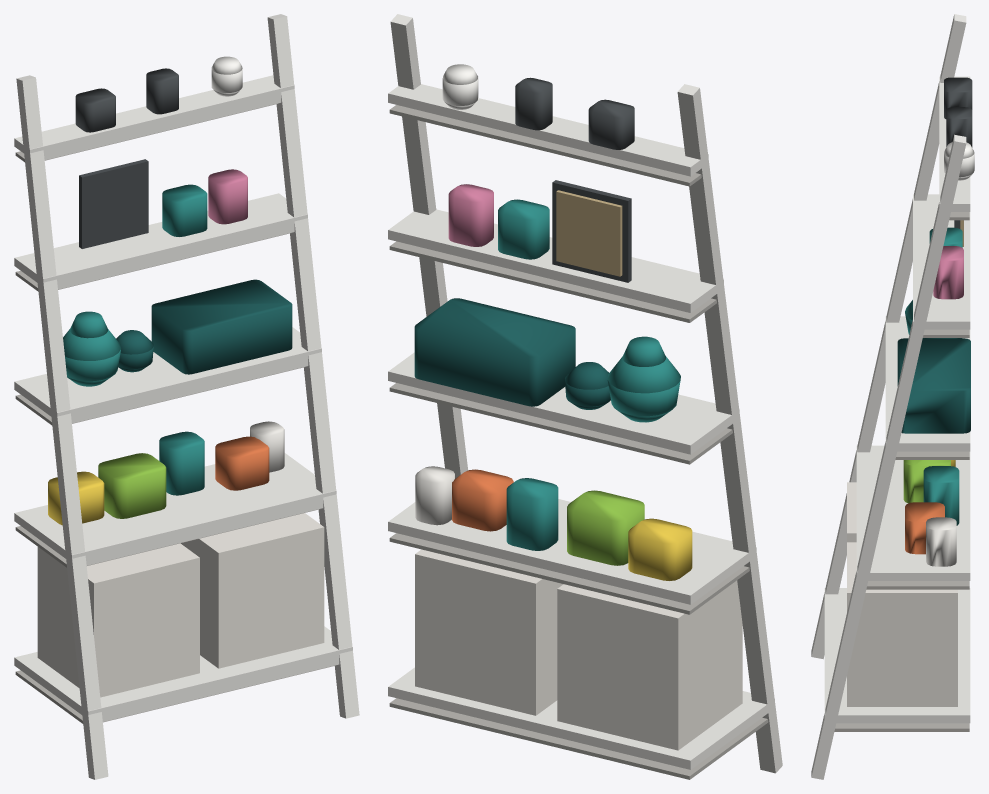
The picture shows the model from 3 angles, left to right: view 1: azimuth 30°, elevation 25°; view 2: azimuth 150°, elevation 25°; view 3: azimuth 270°, elevation 25°; orthographic projection. The views are drawn at different scales.
Parts seen in each view (by area): view 1: root; view 2: root; view 3: root.
Part boxes in pixels (box(x1,y1,x2,y2)): root: box(14, 14, 359, 779); root: box(388, 14, 782, 779); root: box(811, 14, 974, 779).
Bounding box in the file's own units: 0.7772 × 1.82 × 0.4211.
